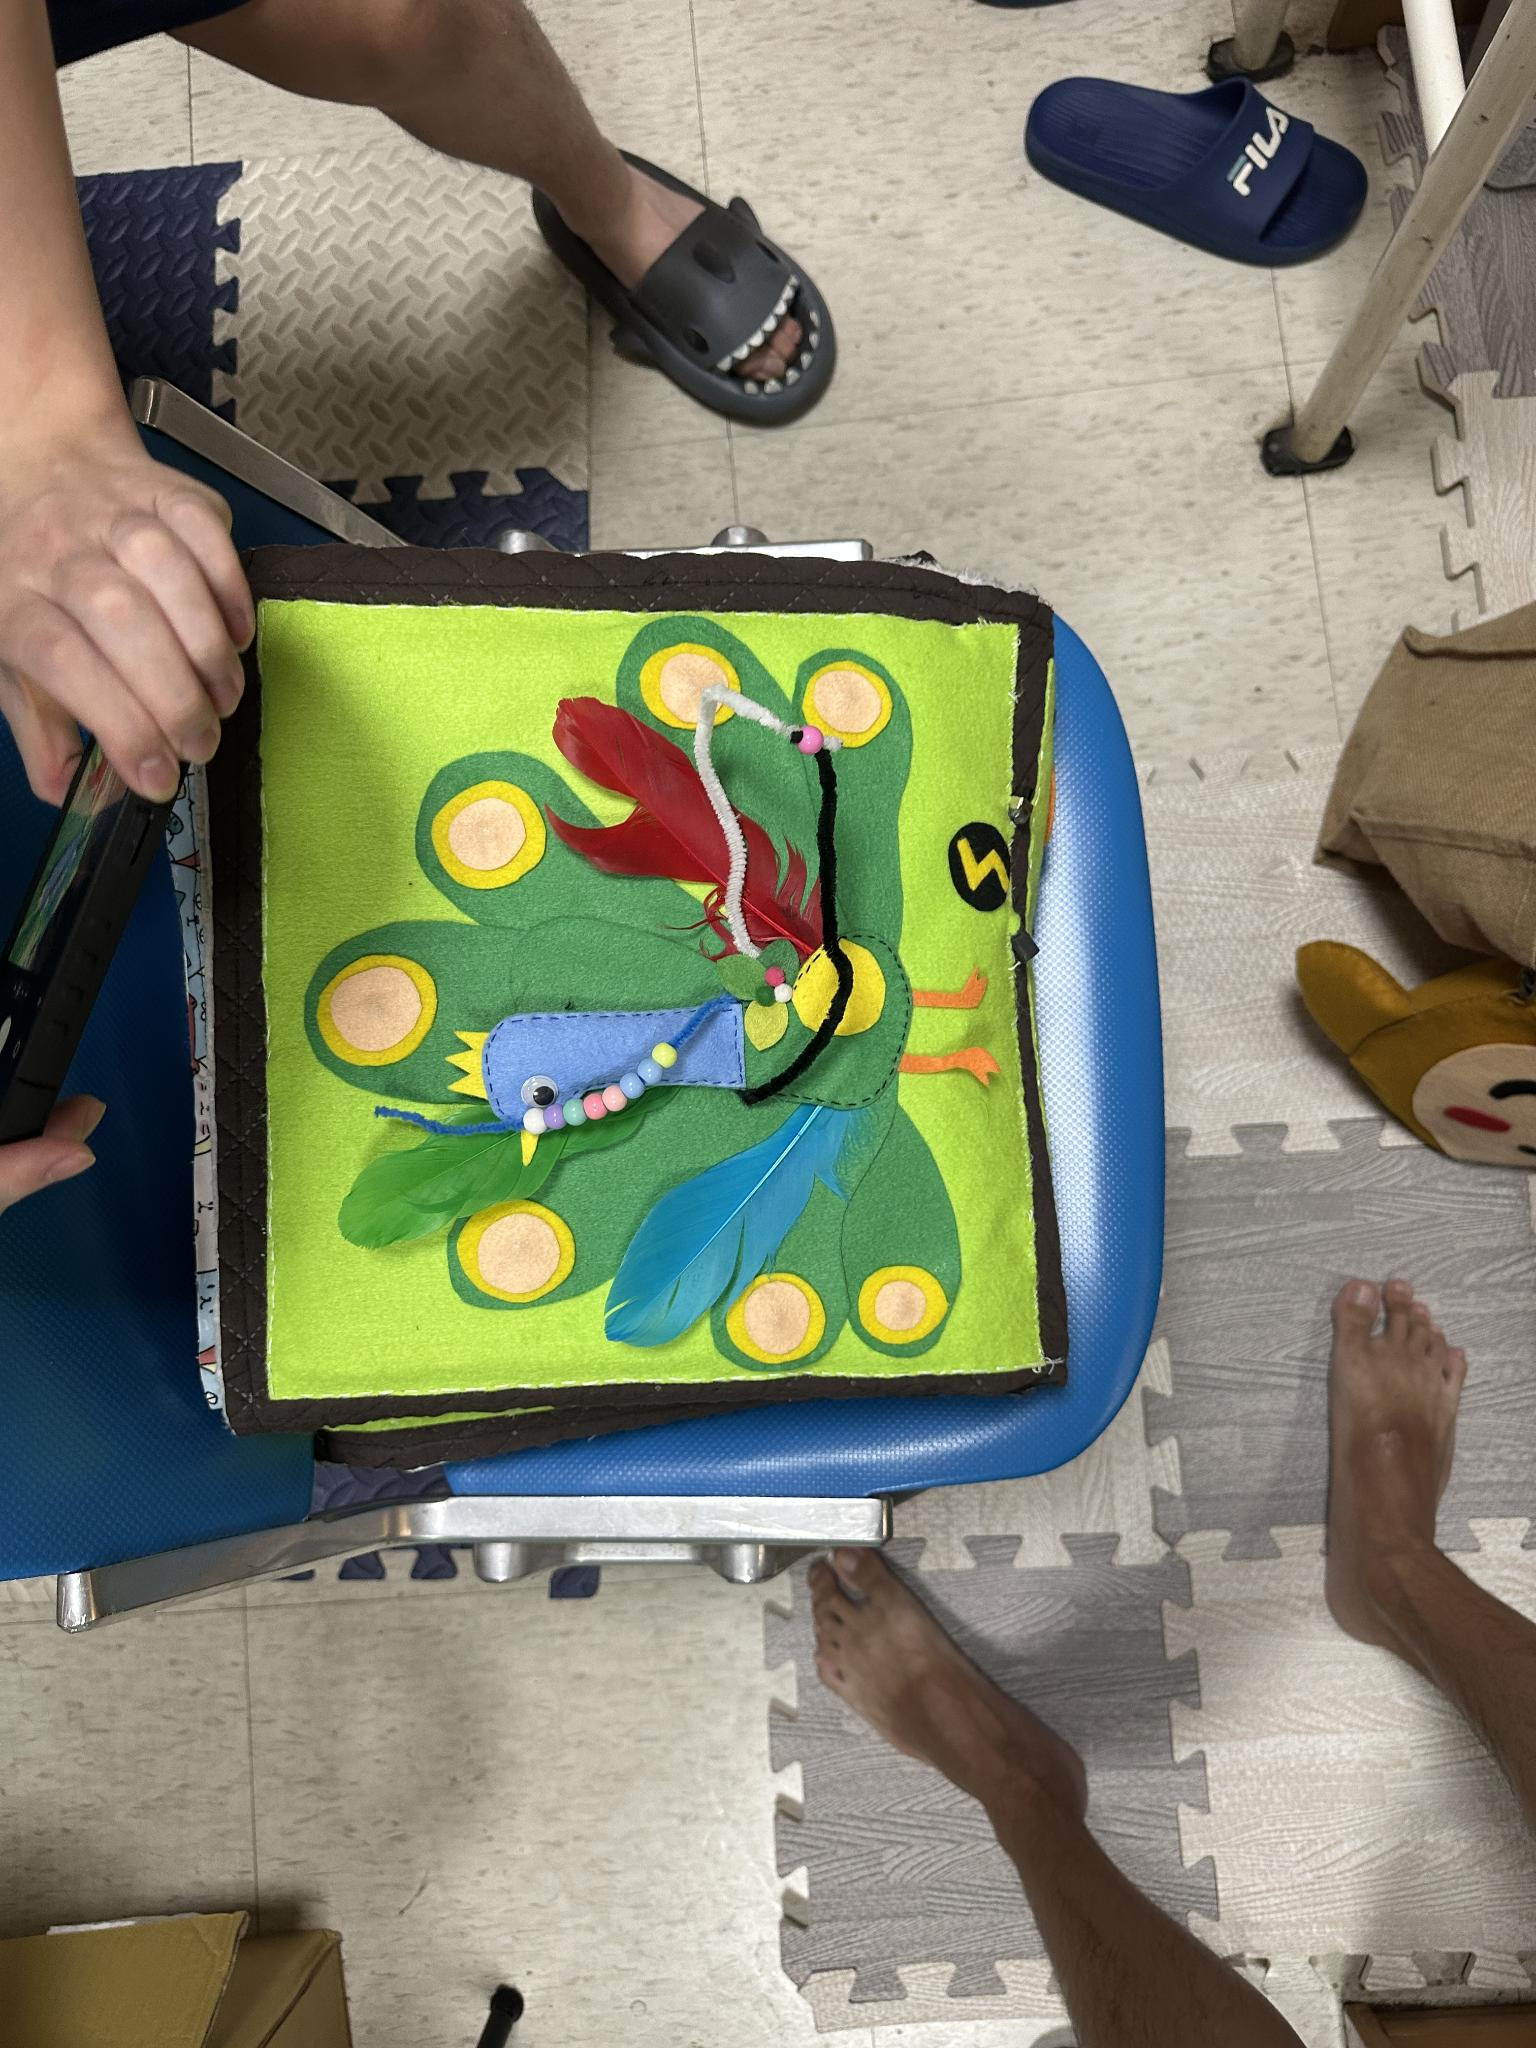bead: (787, 714, 841, 763), (521, 1100, 547, 1138), (655, 1037, 686, 1068), (561, 1100, 595, 1126), (618, 1071, 645, 1101), (582, 1089, 605, 1121), (636, 1058, 663, 1080), (544, 1098, 561, 1129), (603, 1087, 624, 1109)
